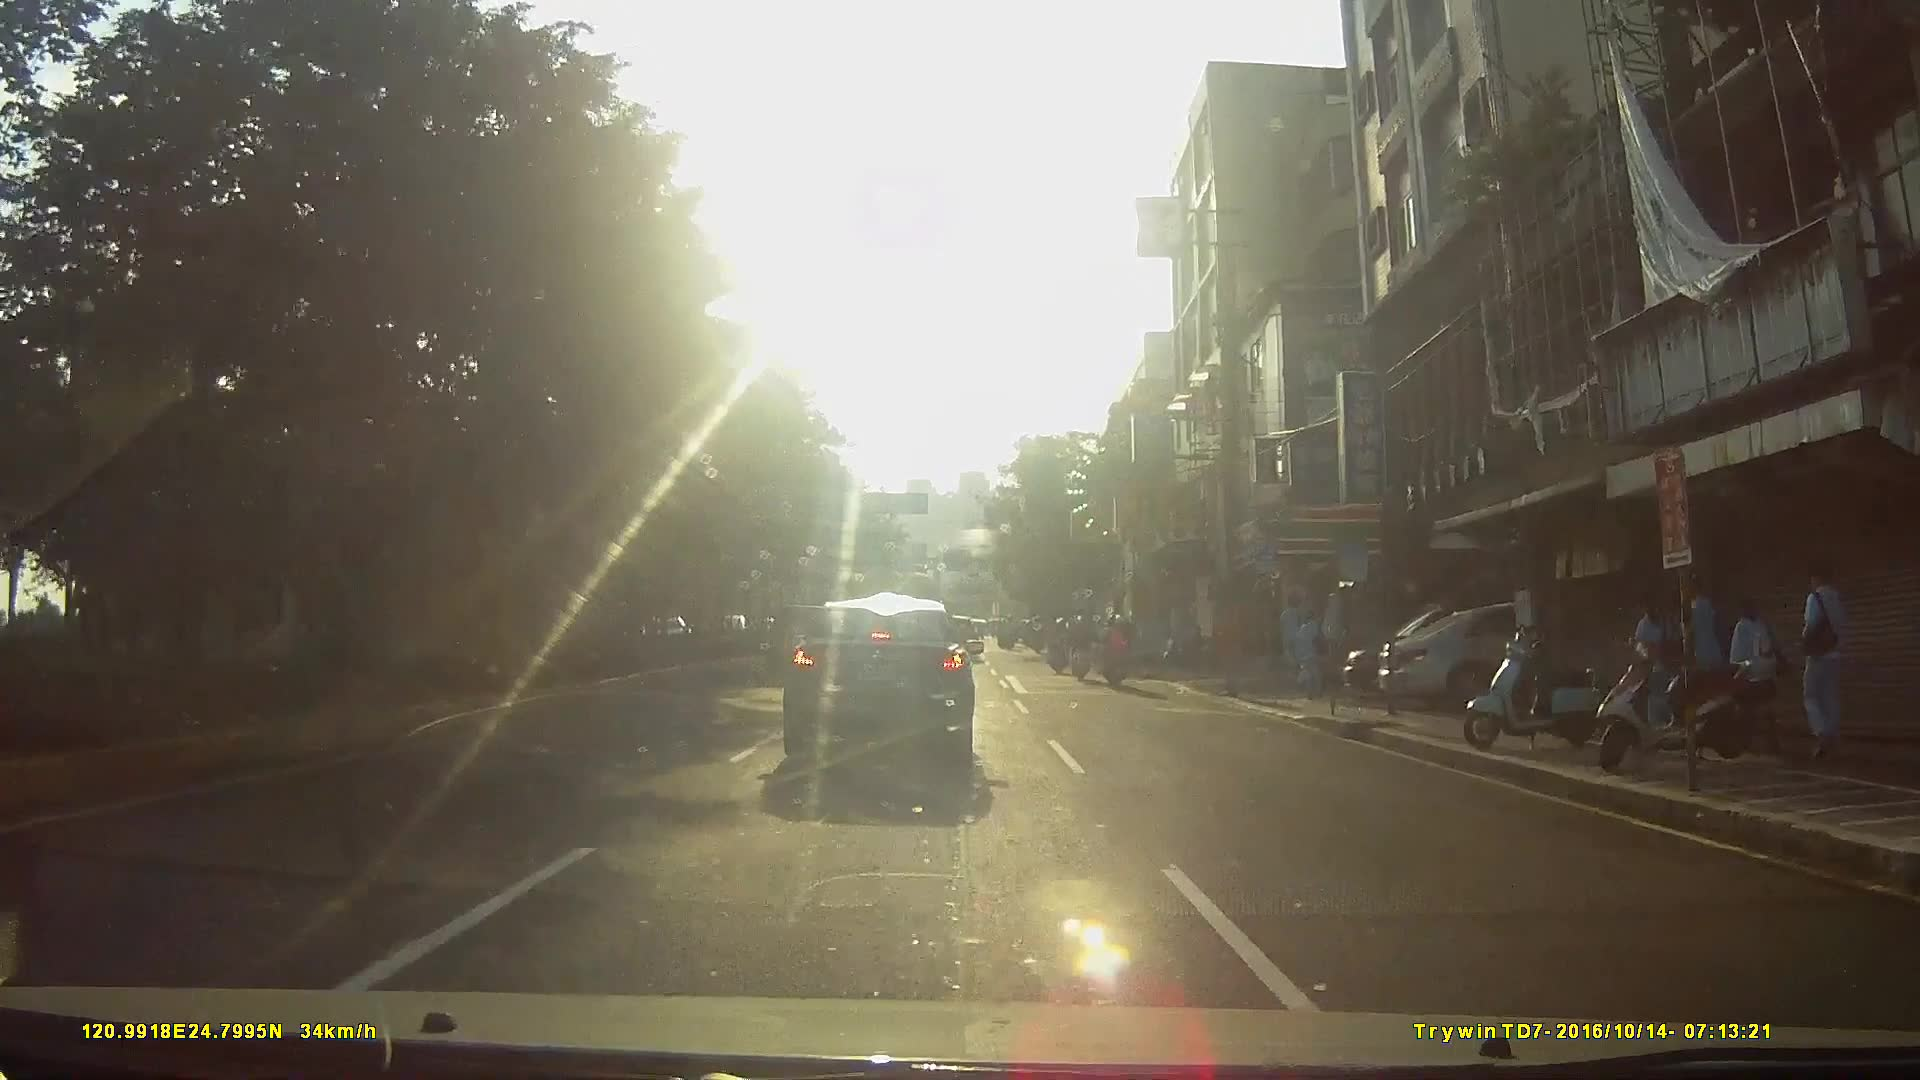pedestrian: (1798, 557, 1860, 767), (1674, 564, 1727, 733), (1731, 591, 1778, 734), (1632, 578, 1677, 720), (1289, 604, 1334, 702)
rider: (1100, 614, 1137, 694), (1066, 610, 1093, 686), (1045, 619, 1071, 679)
vehicle: (764, 586, 995, 782), (1375, 595, 1705, 714)
